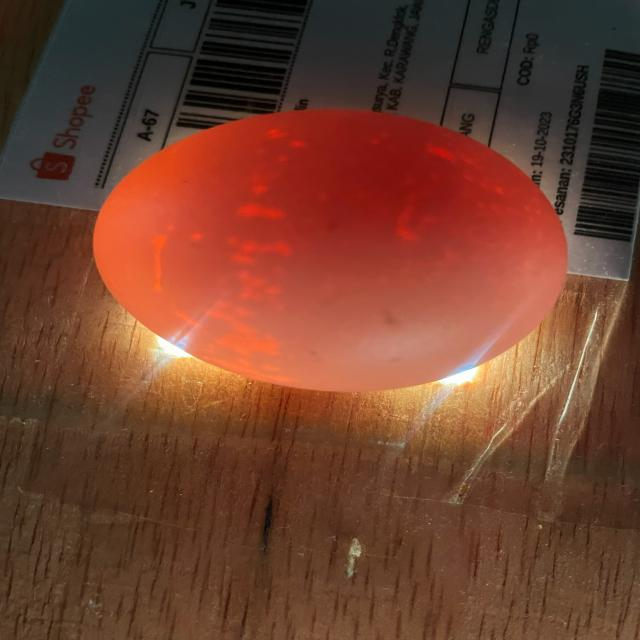fertile: (93, 110, 567, 391)
